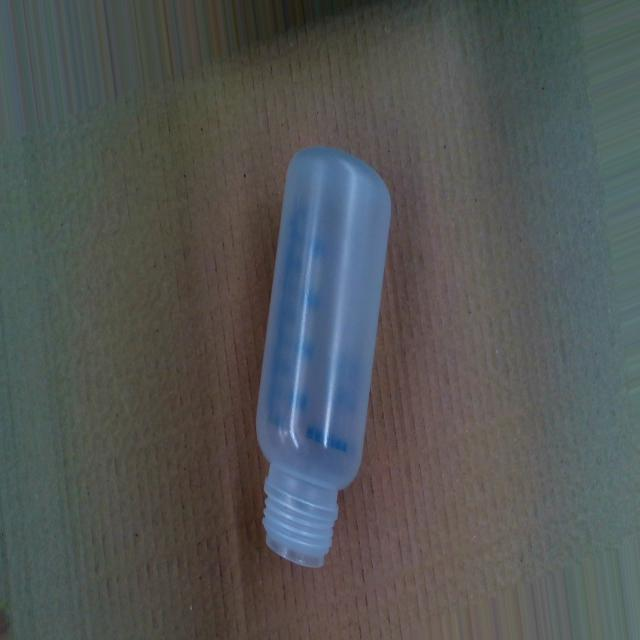bottle: (252, 144, 392, 572)
